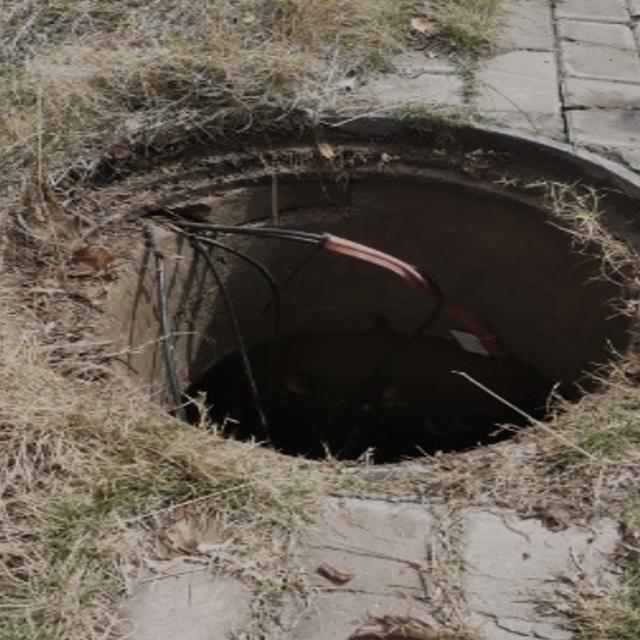lose: (0, 105, 640, 477)
